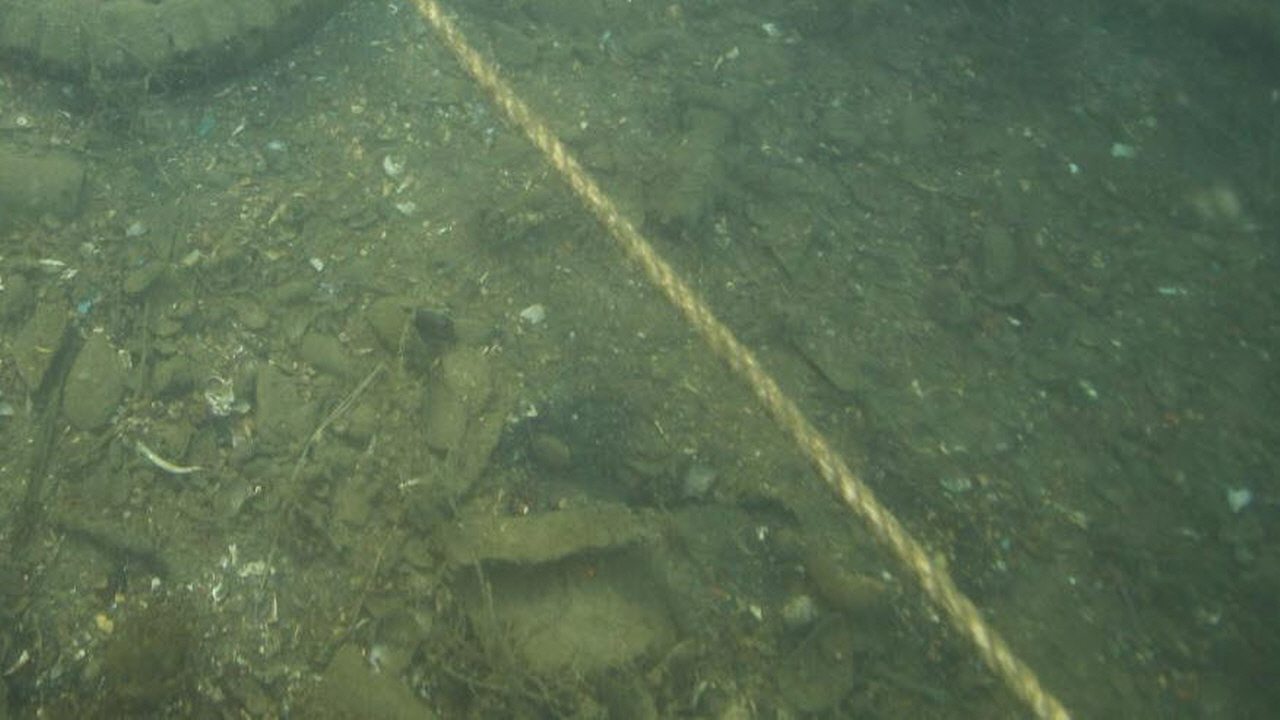rope: (407, 1, 1064, 720)
